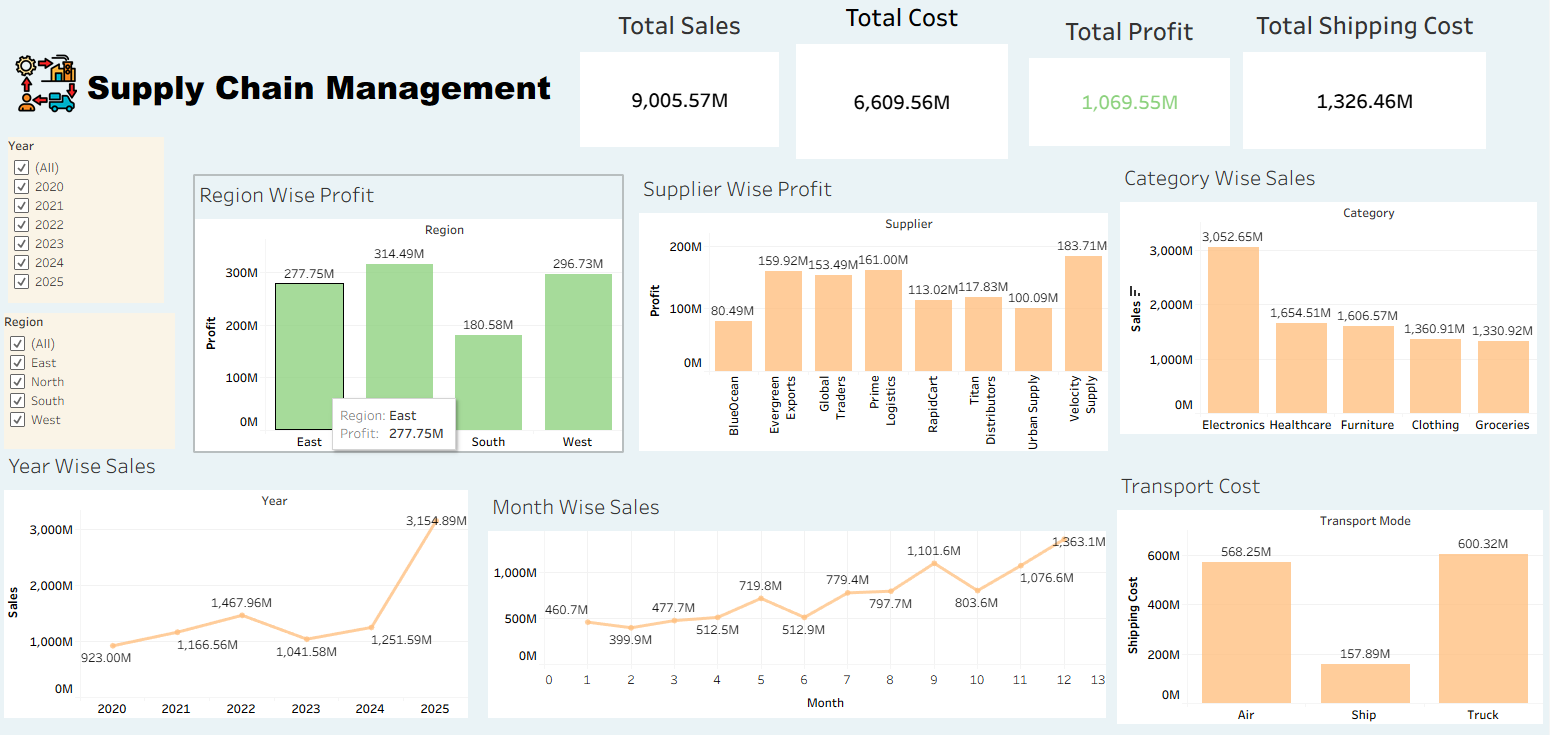

Layout of this report page (visuals, bound fields, positions):
{"tool":"tableau","page":{"name":"Supply Chain Analytics","canvas":[1000,1000],"units":"permille","ordinal":0},"visuals":[{"type":"worksheet","title":"Total Cost","mark":"Automatic","box":[514.5,13.6,137,181.8]},{"type":"worksheet","title":"Total Sales","mark":"Automatic","box":[374.9,22.7,128.2,159.1]},{"type":"worksheet","title":"Total Shipping Cost ","mark":"Automatic","box":[802.5,22.7,157.2,162.1]},{"type":"worksheet","title":"Total Profit","mark":"Automatic","box":[664.6,28.8,129.9,151.5]},{"type":"text","box":[35.9,44.6,340.7,139.3]},{"type":"image","param":"E:/Project/Tableau/New/1.png","box":[10.3,75.8,40,75.8]},{"type":"filter","title":"Supplier Wise Profit","param":"[federated.06f76m70w1a0cw11a29o71nt9dao].[none:Year:nk]","box":[5.8,189.5,100.7,222.4]},{"type":"worksheet","title":"Supplier Wise Profit","mark":"Automatic","rows":["Profit"],"cols":["Supplier"],"box":[408.4,226.3,307.7,359.2]},{"type":"worksheet","title":"Region Wise Profit","mark":"Automatic","rows":["Profit"],"cols":["Region"],"box":[125.2,229,276.8,350]},{"type":"worksheet","title":"Category Wise Sales","mark":"Automatic","rows":["Sales"],"cols":["Category"],"box":[723.2,239.5,269,346.1]},{"type":"filter","title":"Category Wise Sales","param":"[federated.06f76m70w1a0cw11a29o71nt9dao].[none:Region:nk]","box":[3.2,423.7,110.3,165.8]},{"type":"worksheet","title":"Year Wise Sales","mark":"Line","rows":["Sales"],"cols":["Year"],"box":[3.2,609.2,299.4,353.9]},{"type":"worksheet","title":"Month Wise Sales","mark":"Automatic","rows":["Sales"],"cols":["Month"],"box":[315.5,623.7,398.7,340.8]},{"type":"worksheet","title":"Transport Cost","mark":"Automatic","rows":["Shipping_Cost"],"cols":["Transport_Mode"],"box":[718.7,648.7,274.8,314.5]}]}

Visuals, with their boxes on the dashboard's canvas, which has no fixed pixel size, in thousandths of its width and height (x1, y1, x2, y2). These are canvas units, not pixel positions in the 1550x735 screenshot, which may show the page scaled, cropped or inside an application window:
"Total Cost" worksheet: [514, 14, 652, 195]
"Total Sales" worksheet: [375, 23, 503, 182]
"Total Shipping Cost " worksheet: [802, 23, 960, 185]
"Total Profit" worksheet: [665, 29, 794, 180]
text: [36, 45, 377, 184]
image: [10, 76, 50, 152]
"Supplier Wise Profit" filter: [6, 190, 106, 412]
"Supplier Wise Profit" worksheet: [408, 226, 716, 586]
"Region Wise Profit" worksheet: [125, 229, 402, 579]
"Category Wise Sales" worksheet: [723, 240, 992, 586]
"Category Wise Sales" filter: [3, 424, 114, 590]
"Year Wise Sales" worksheet (Line marks): [3, 609, 303, 963]
"Month Wise Sales" worksheet: [316, 624, 714, 964]
"Transport Cost" worksheet: [719, 649, 994, 963]
